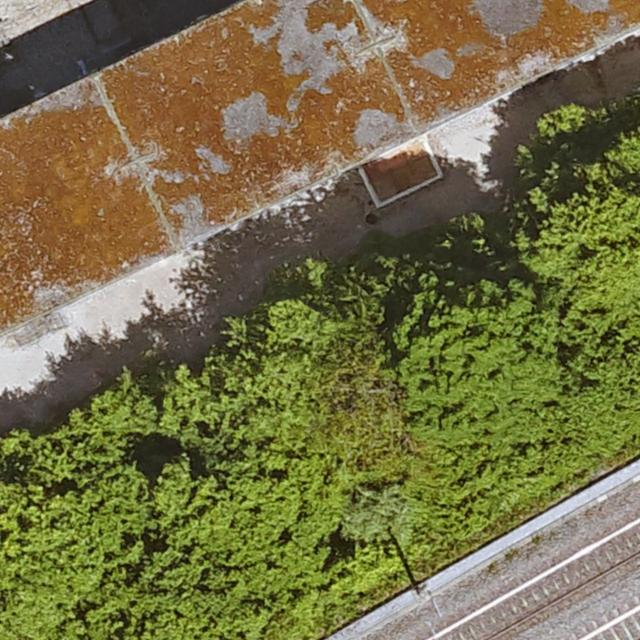tree: (163, 389, 323, 633), (1, 440, 180, 639), (406, 270, 551, 466), (269, 314, 410, 481), (529, 137, 640, 311)
